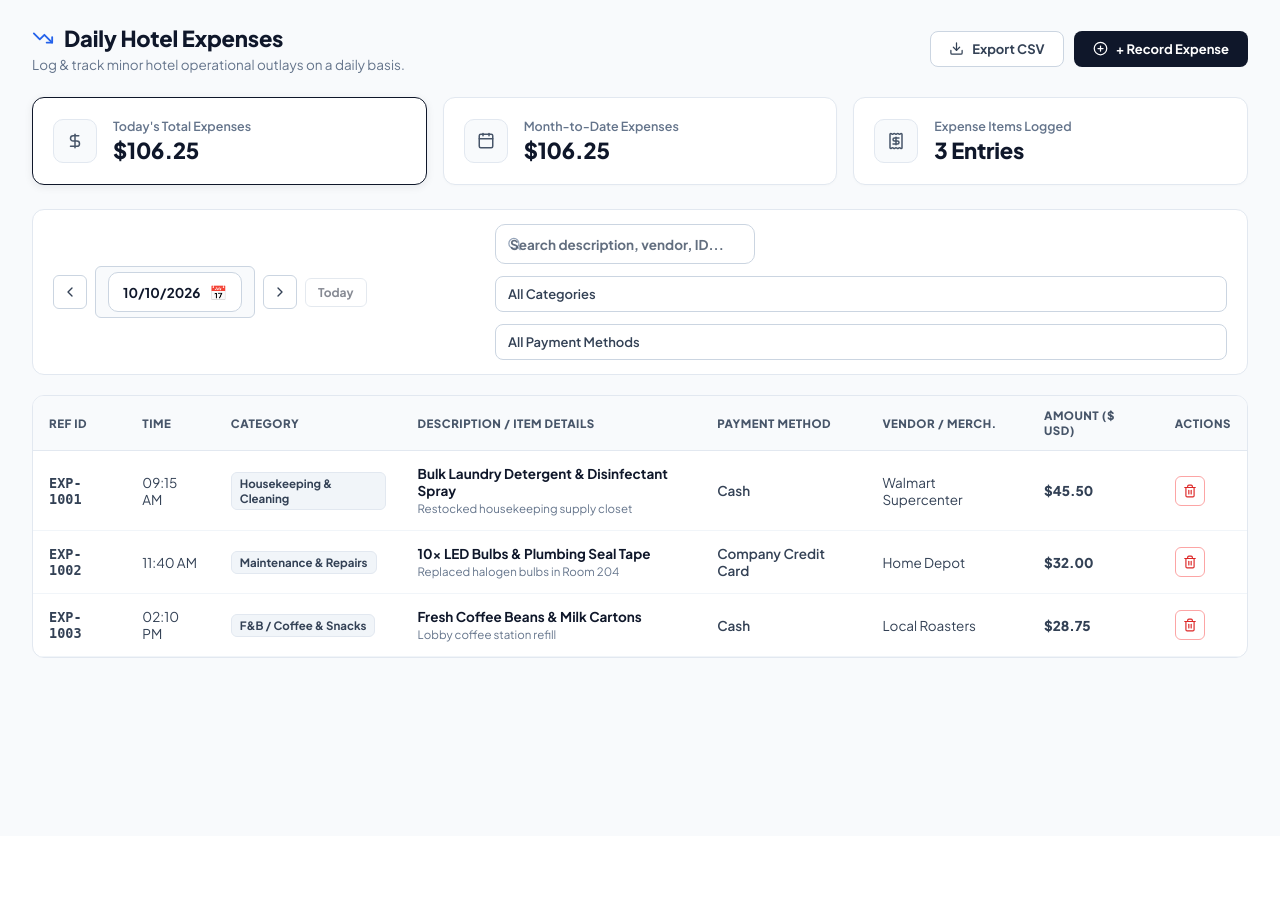
Test: Daily Sales & Expenses Operations Self-Test Suite › 2. Records a new daily expense item and updates summary calculation
The image size is (1280, 900).
Open record expense modal
Click the button "+ Record Expense".
click(1161, 48)  # box left=1074, top=30, right=1248, bottom=66
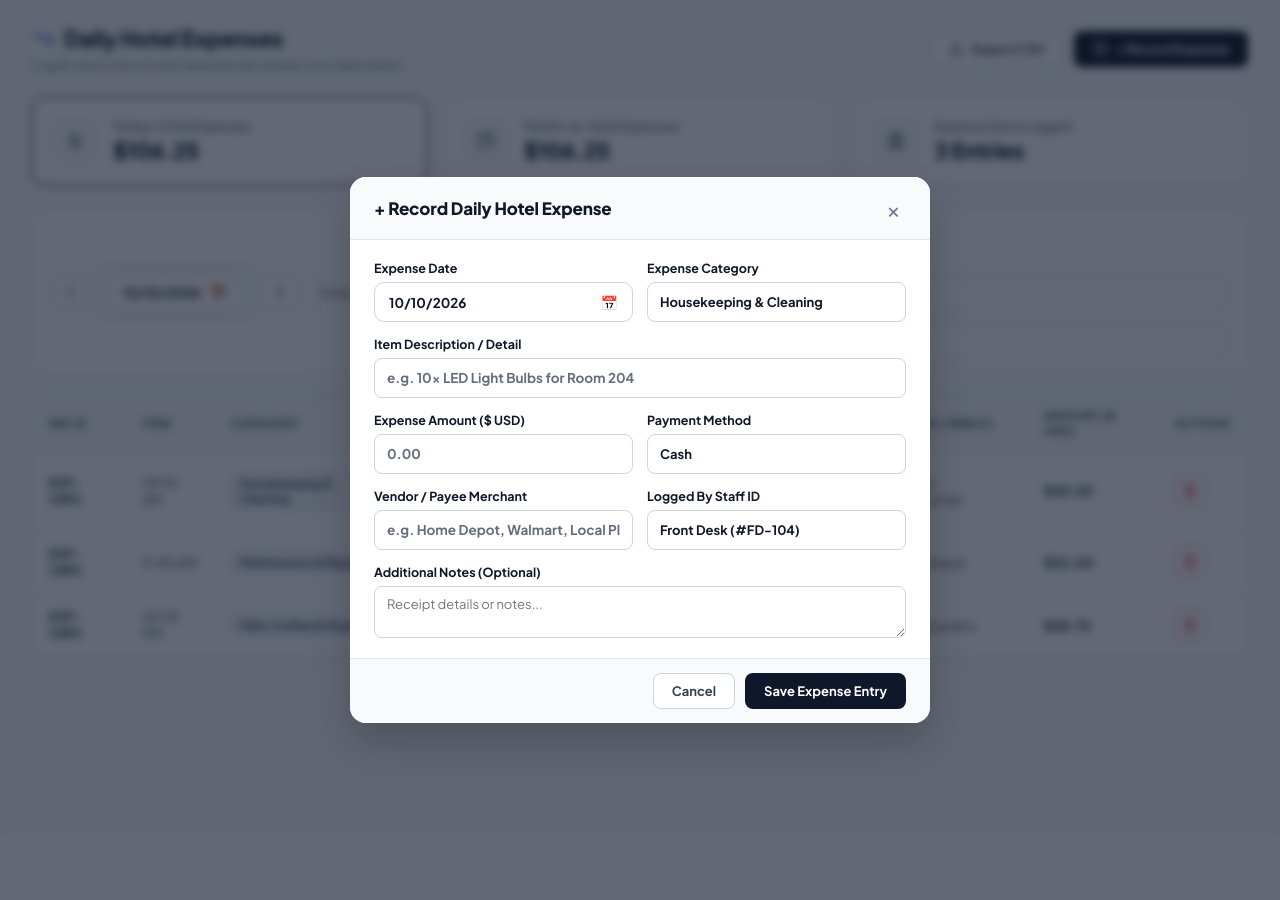
Fill form
Type "Gardening Hose & Sprinkler" into the field with placeholder "e.g. 10x LED Light Bulbs for Room 204".
click(640, 378); type("Gardening Hose & Sprinkler")  # box left=374, top=358, right=906, bottom=398
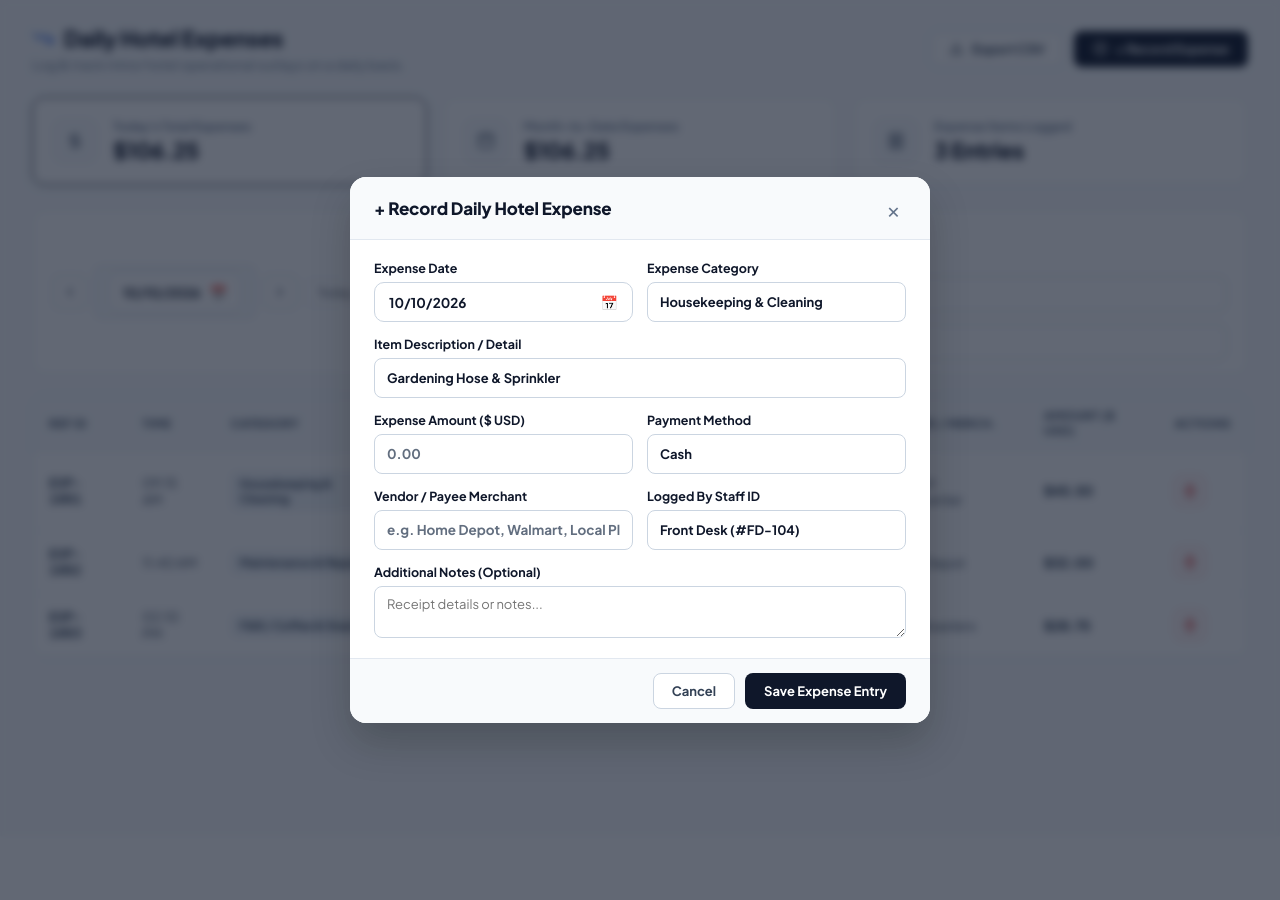
Type "65.50" into the number field with placeholder "0.00".
click(504, 454); type("65.50")  # box left=374, top=434, right=633, bottom=474
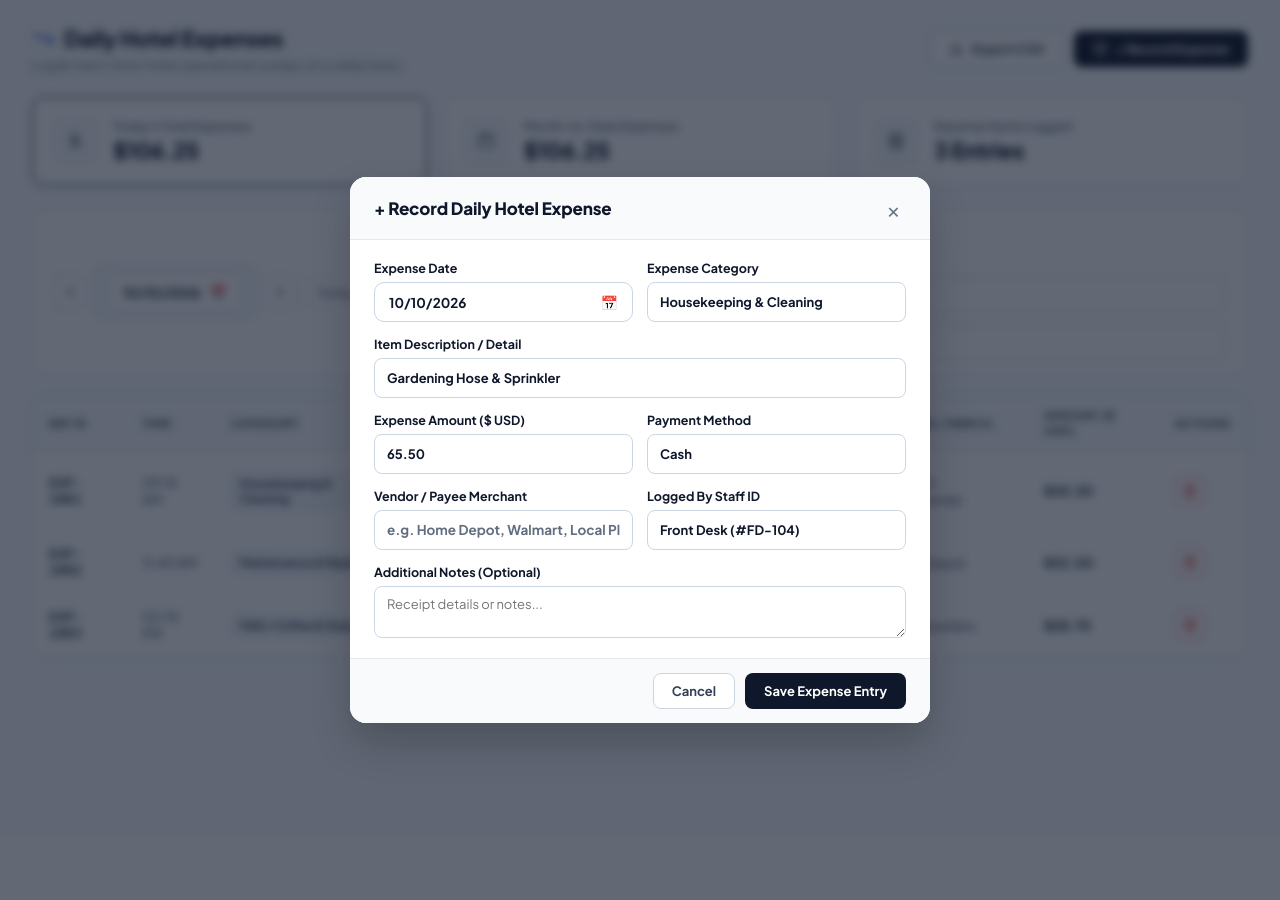
Type "Garden Nursery" into the field with placeholder "e.g. Home Depot, Walmart, Local Plumber".
click(504, 530); type("Garden Nursery")  # box left=374, top=510, right=633, bottom=550
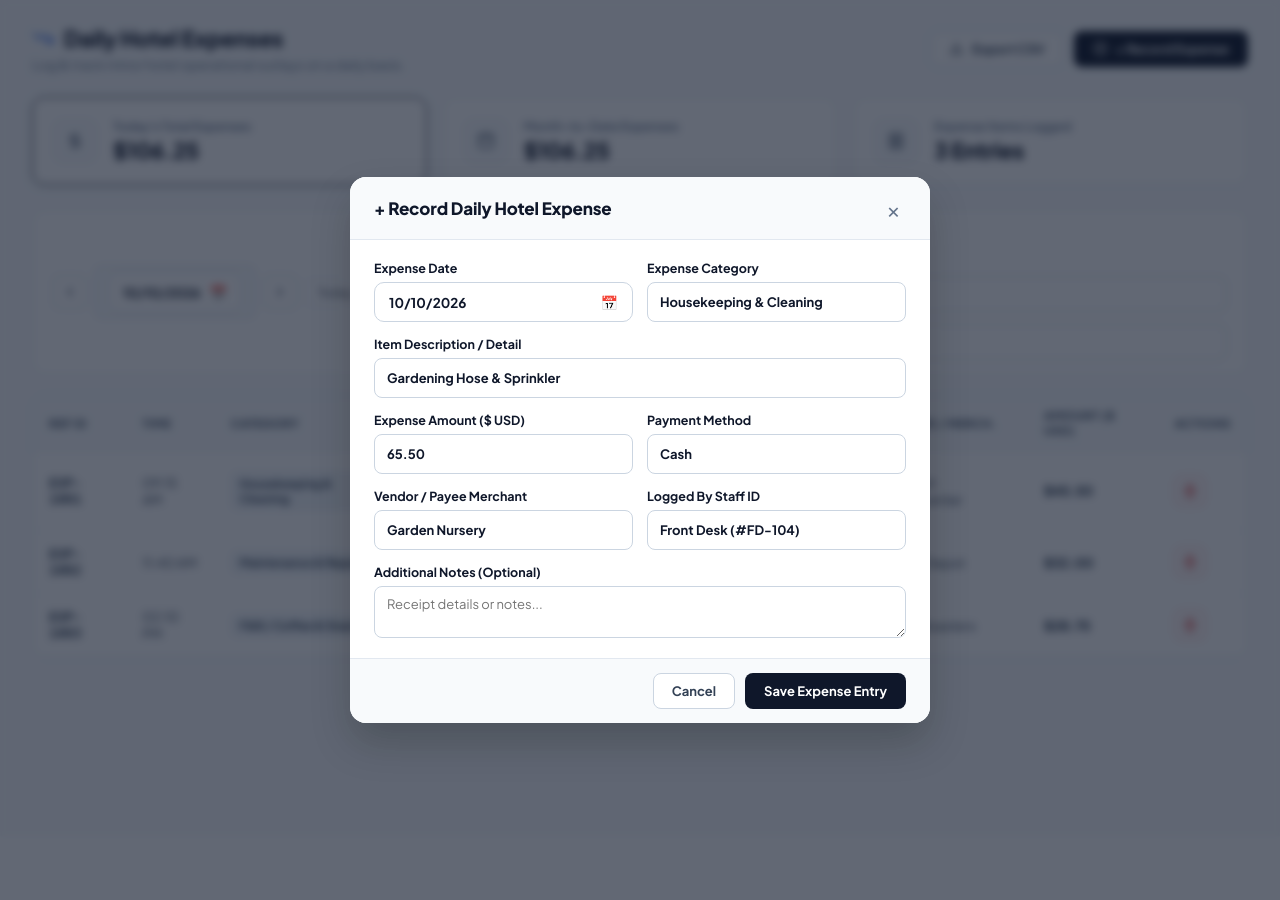
Click the button "Save Expense Entry".
click(826, 691)  # box left=745, top=673, right=906, bottom=709
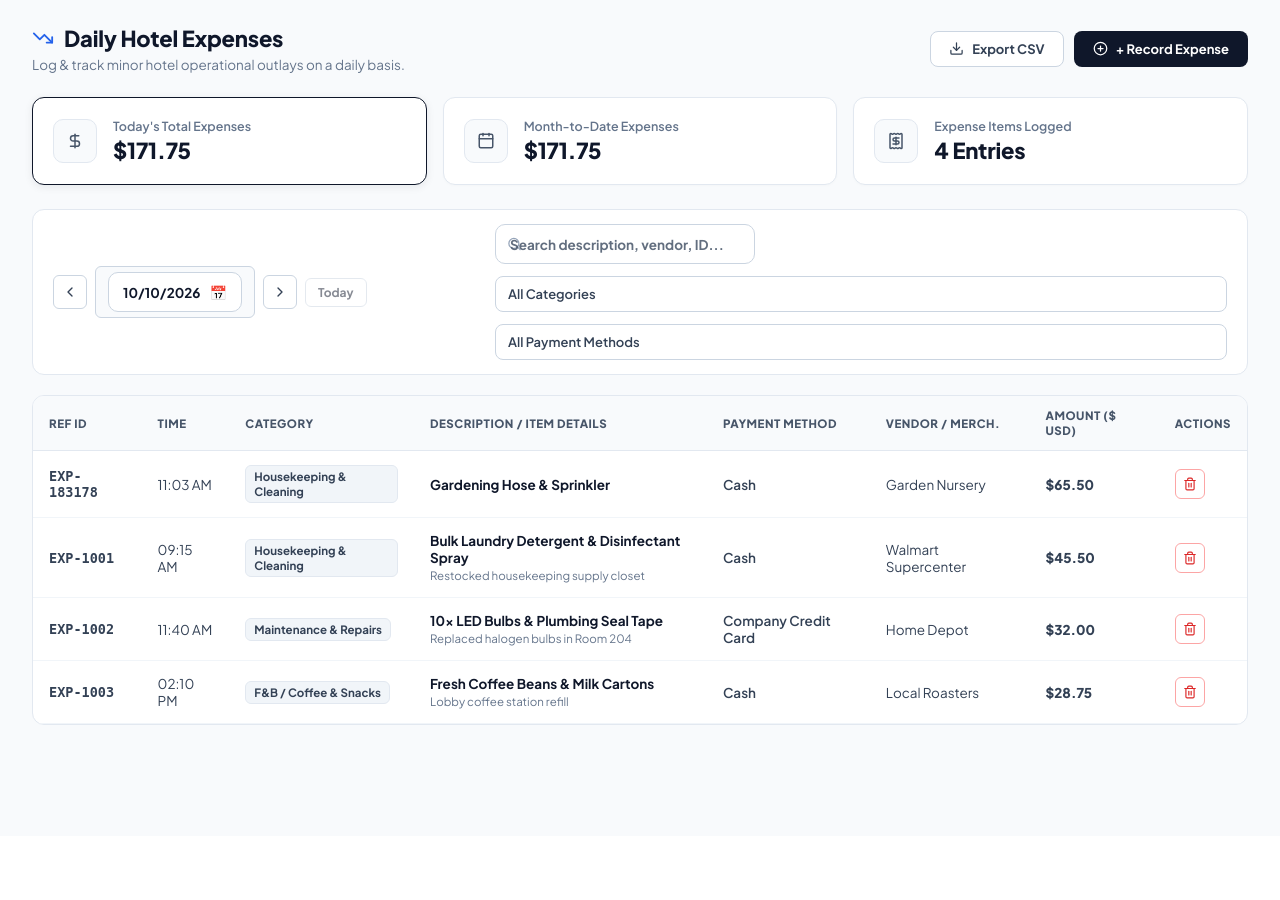
Check: the text "Gardening Hose & Sprinkler" is shown, box left=430, top=476, right=610, bottom=492
Check: the text "$65.50" is shown, box left=1030, top=450, right=1159, bottom=518
